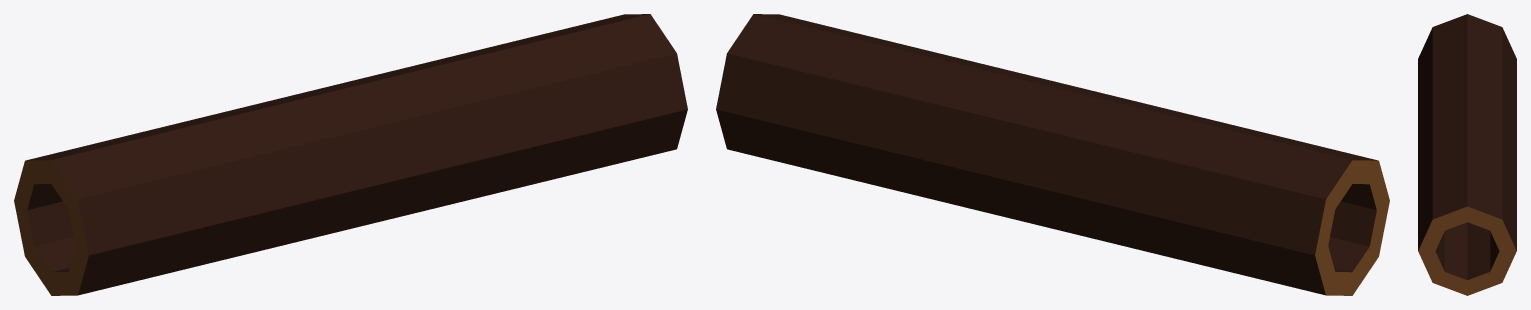
Rendered from Log_Hollow_01.fbx.
The picture shows the model from 3 angles, left to right: view 1: azimuth 30°, elevation 25°; view 2: azimuth 150°, elevation 25°; view 3: azimuth 270°, elevation 25°; orthographic projection. The views are drawn at different scales.
Parts seen in each view (by area): view 1: Log_Hollow_01_Mesh; view 2: Log_Hollow_01_Mesh; view 3: Log_Hollow_01_Mesh.
Part boxes in pixels (x1,y1,x2,y2): Log_Hollow_01_Mesh: [14, 14, 687, 295]; Log_Hollow_01_Mesh: [716, 14, 1389, 295]; Log_Hollow_01_Mesh: [1418, 14, 1516, 295].
Bounding box in the file's own units: 2.4 × 0.52 × 0.52.
Materials: 1 (1 with a texture image).
